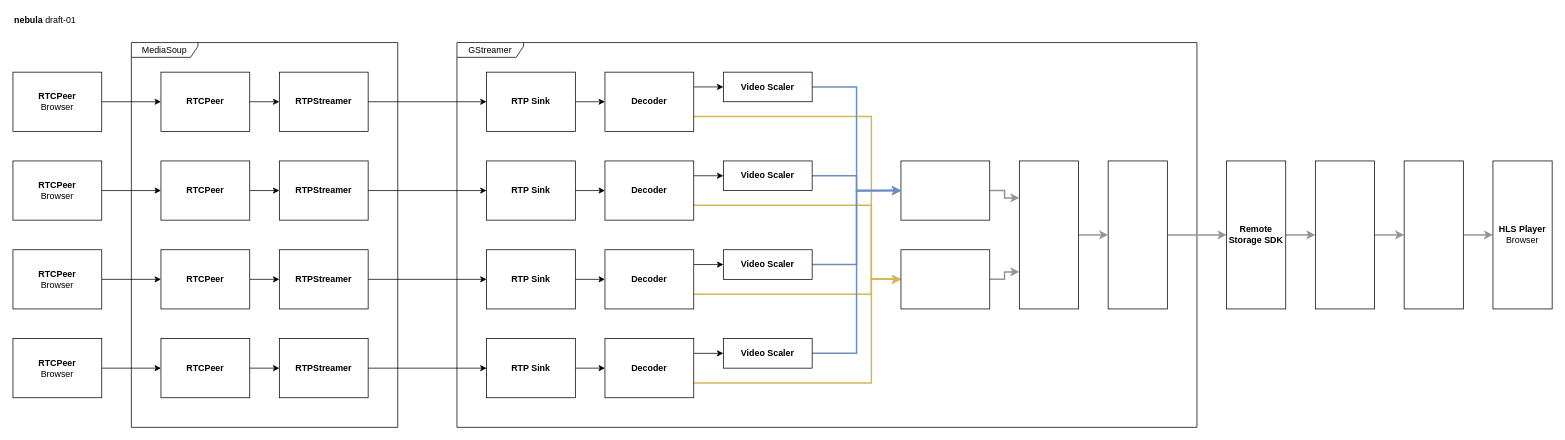
This 1565x440 diagram has some shape labels left out. Each missing label, with the centre of its shape:
"Audio Mixer" belongs at (945,279).
"CDN AWS CloudFront" belongs at (1433,234).
"HLS Segmenter" belongs at (1137,234).
"Managed Storage AWS S3" belongs at (1345,234).
"Muxer" belongs at (1049,234).
"Video Mixer" belongs at (945,190).
